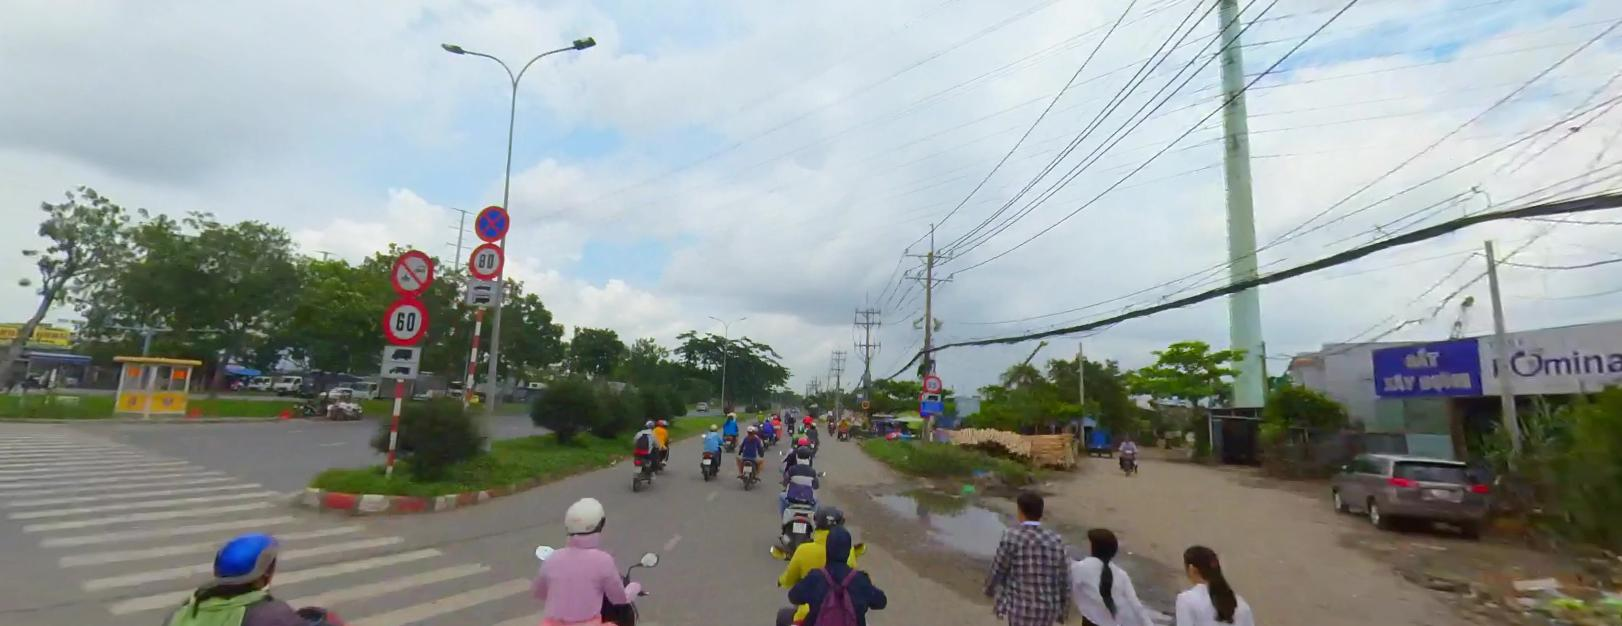Cam con lai: (390, 250, 433, 294)
Cam dung va do: (471, 204, 509, 241)
Gioi han toc do: (381, 297, 428, 342), (468, 243, 505, 277), (924, 375, 942, 390)
